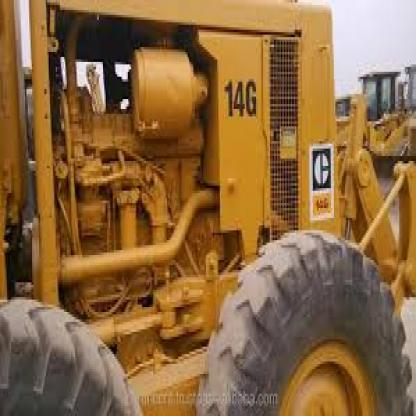bull_dozer/loader/grader: (8, 0, 409, 414)
